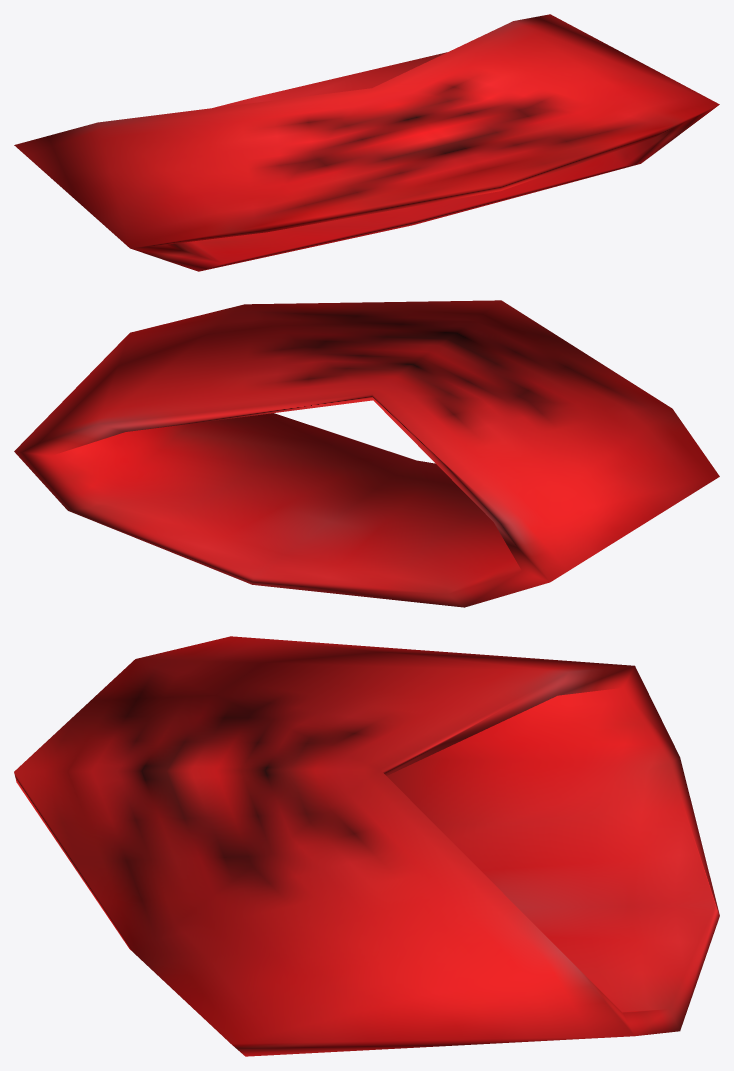
Rendered from WorldItem_AZ_SamuraiNeckguard.fbx.
The picture shows the model from 3 angles, top to bottom: view 1: azimuth 30°, elevation 25°; view 2: azimuth 150°, elevation 25°; view 3: azimuth 270°, elevation 25°; orthographic projection. The views are drawn at different scales.
Visible parts, largest first — view 1: Neckguard; view 2: Neckguard; view 3: Neckguard.
Boxes of the visible parts, x1,y1,x2,y2 form: Neckguard: [14, 14, 719, 271]; Neckguard: [14, 300, 719, 607]; Neckguard: [14, 636, 719, 1056].
Size of the model in its own units: 0.1249 by 0.0216 by 0.0915.
